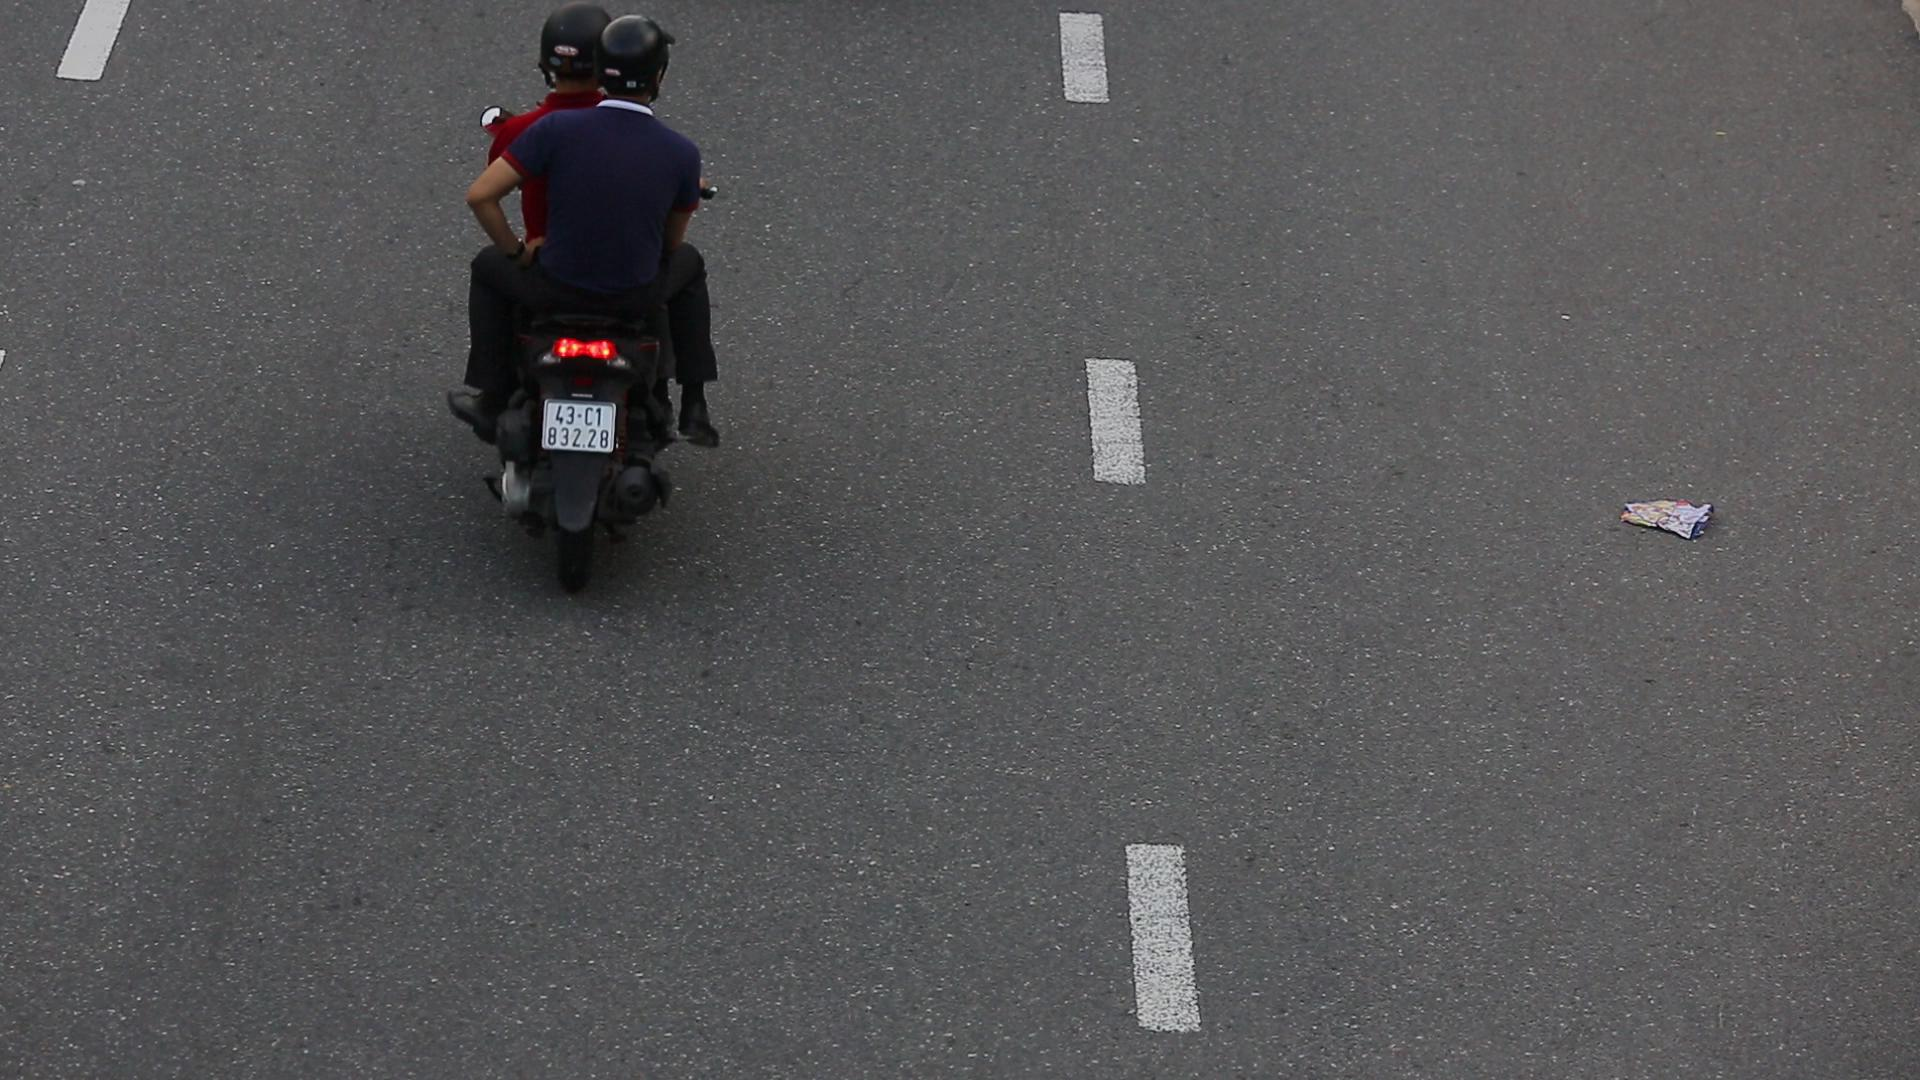motobike: (410, 0, 765, 621)
